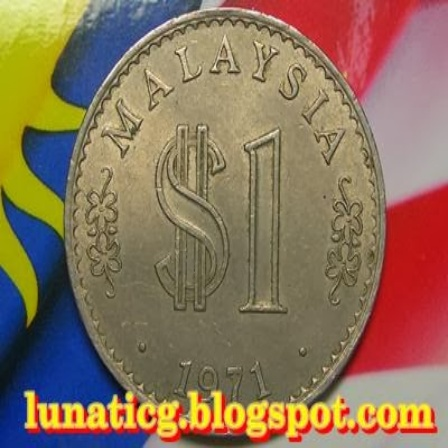1r: (63, 7, 389, 441)
